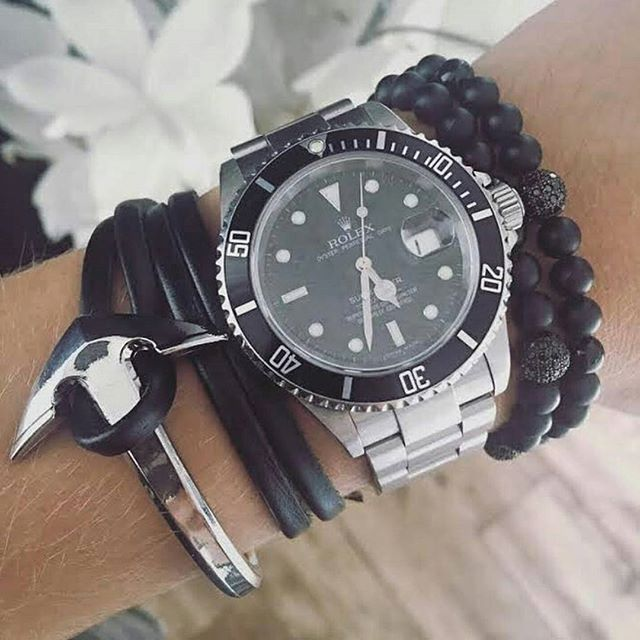clock: (260, 170, 465, 369)
